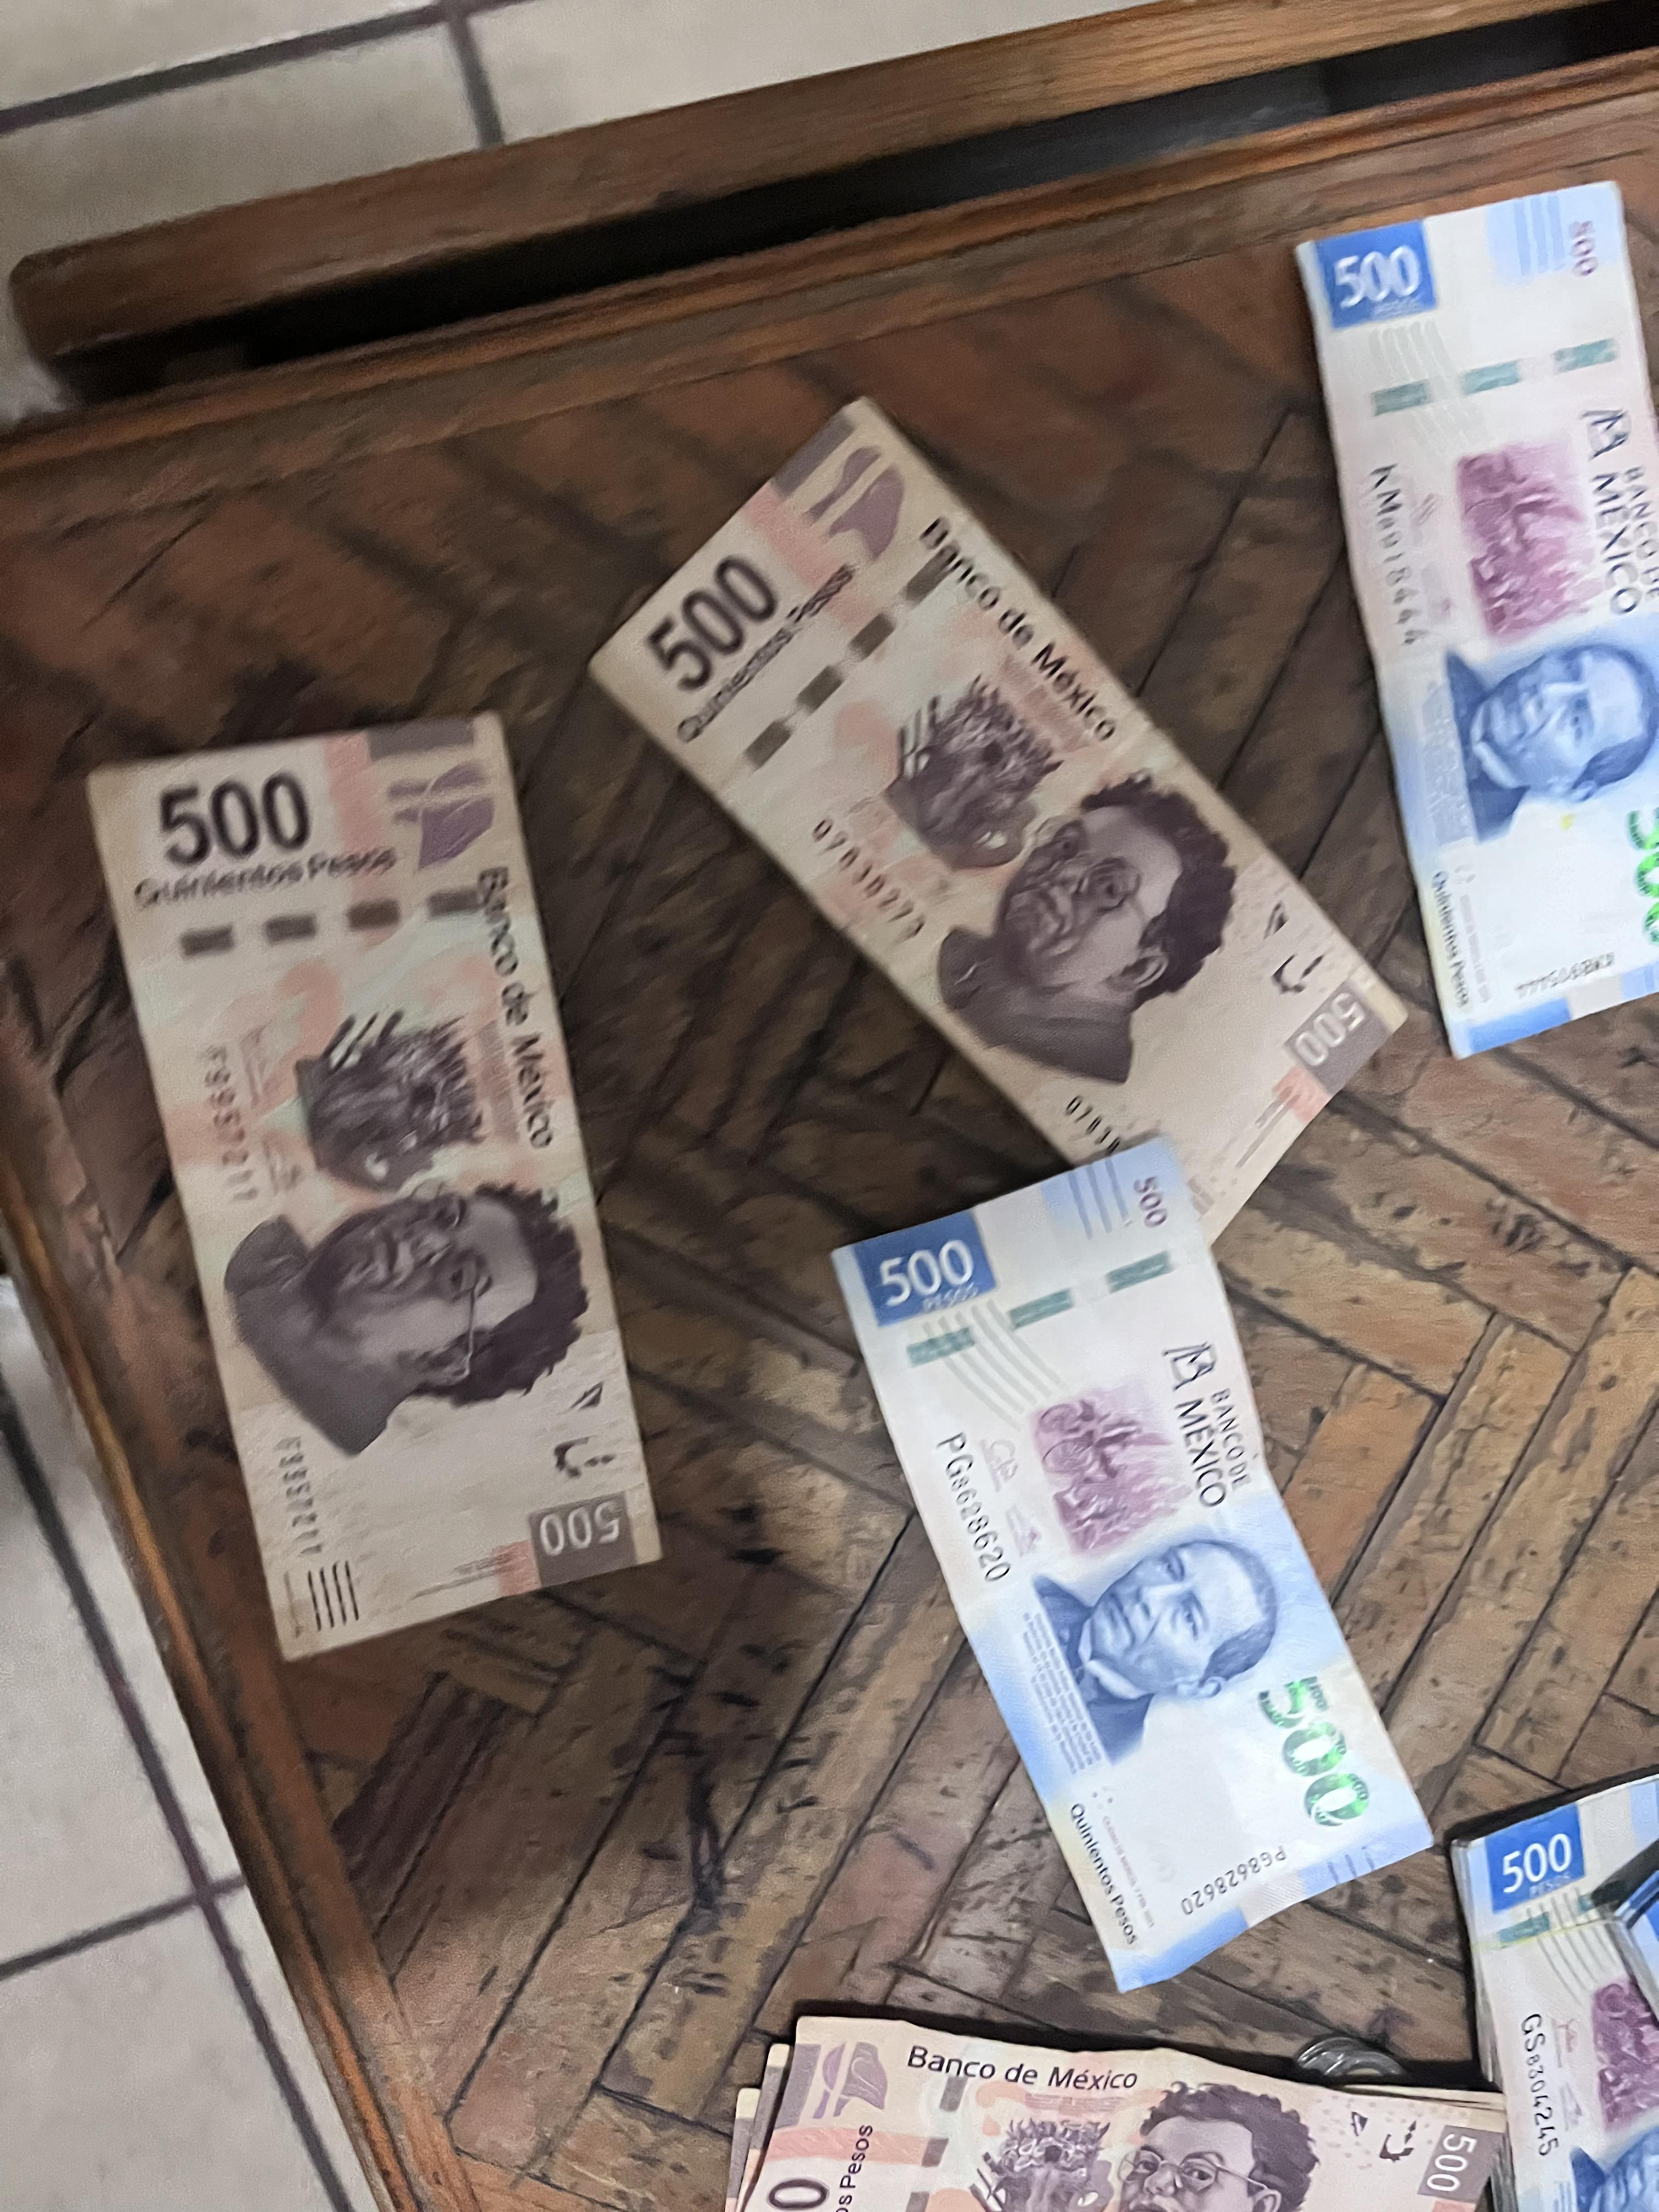500: (580, 392, 1417, 1268), (73, 709, 674, 1681), (723, 2008, 1516, 2212)
500 nuevo: (816, 1118, 1457, 2003), (1284, 172, 1659, 1071), (1452, 1768, 1659, 2212)
